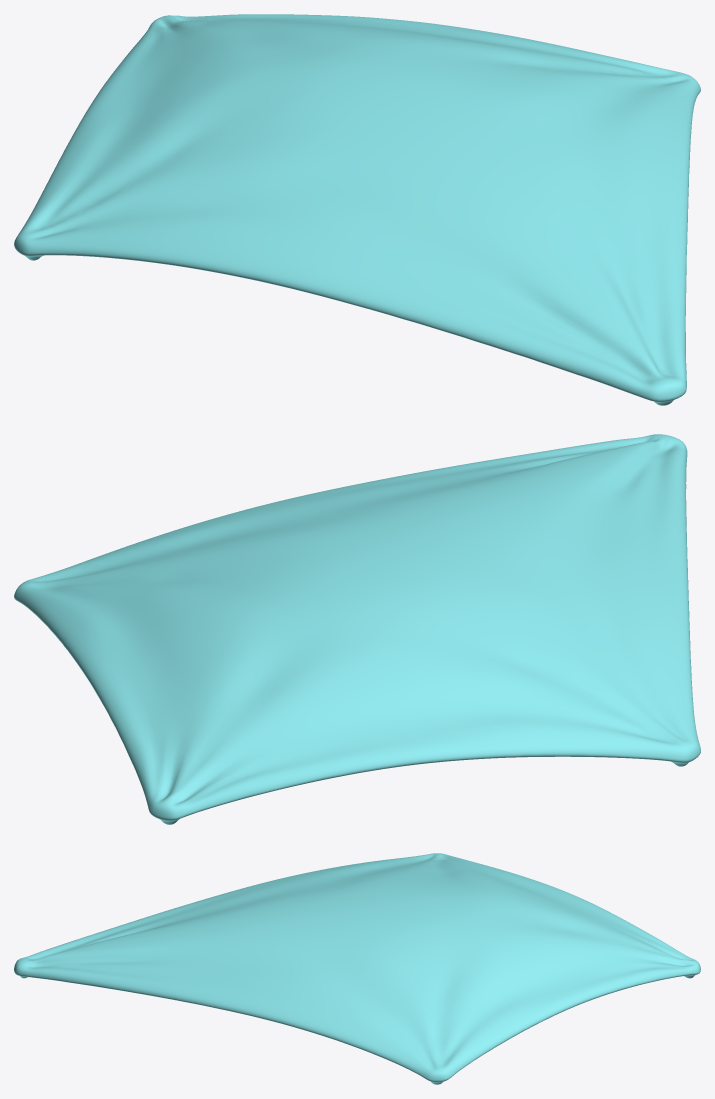
Rendered from kite_interactable.fbx.
The picture shows the model from 3 angles, top to bottom: view 1: azimuth 30°, elevation 25°; view 2: azimuth 150°, elevation 25°; view 3: azimuth 270°, elevation 25°; orthographic projection. The views are drawn at different scales.
Visible parts, largest first — view 1: kite_interactable; view 2: kite_interactable; view 3: kite_interactable.
Part boxes in pixels (x1,y1,x2,y2): kite_interactable: (14,14,700,405); kite_interactable: (14,434,700,824); kite_interactable: (14,853,700,1084).
Bounding box in the file's own units: 310 × 43.98 × 405.
